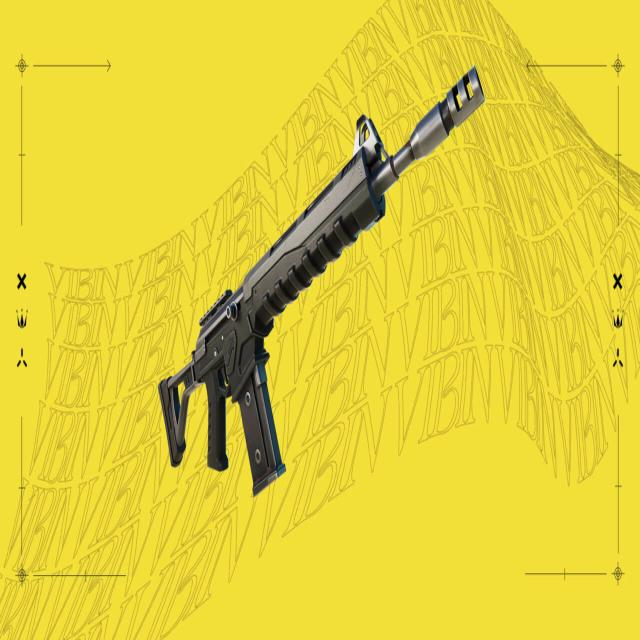Rifle: (160, 70, 486, 494)
